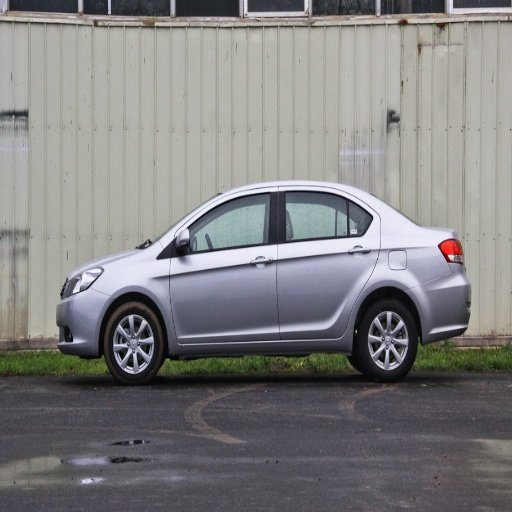back_left_door: (280, 187, 379, 338)
front_left_door: (170, 189, 279, 343)
